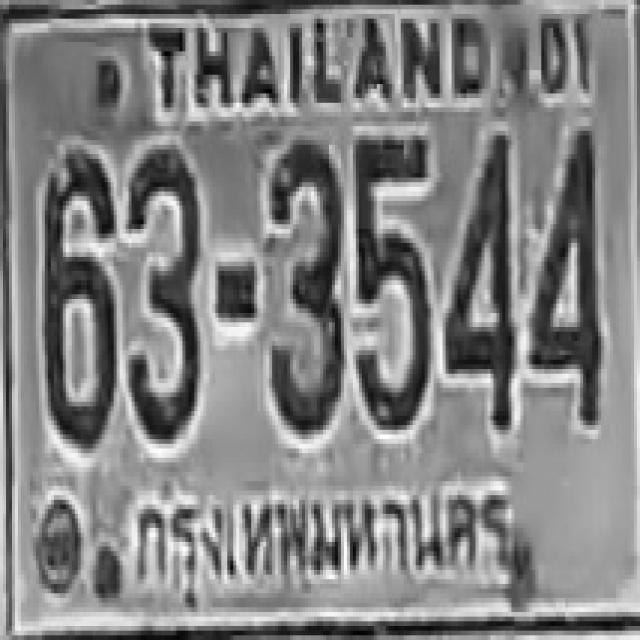3: (268, 135, 342, 430), (124, 147, 199, 437)
4: (526, 128, 601, 423), (446, 128, 514, 428)
5: (353, 133, 431, 428)
6: (42, 149, 114, 444)
BKK: (117, 469, 513, 613)
